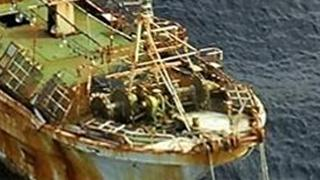rust: (37, 129, 94, 180), (1, 96, 34, 179), (179, 139, 257, 163), (69, 87, 95, 125), (136, 165, 189, 180)
